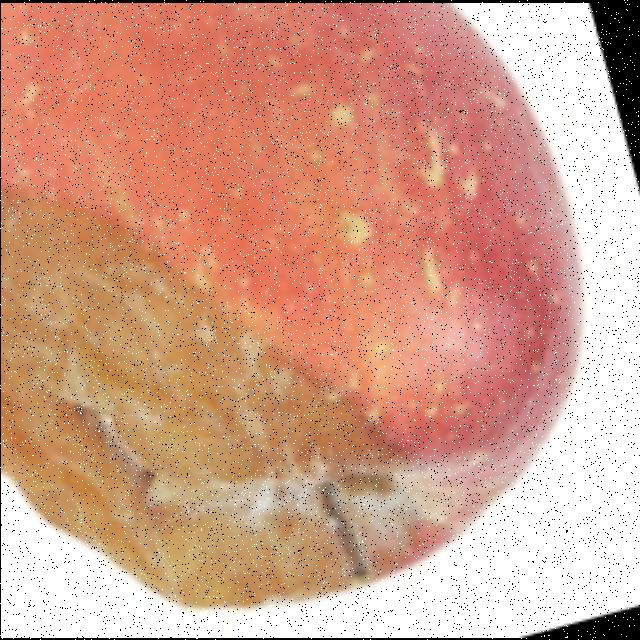Apel Tidak Segar: (0, 3, 592, 621)
